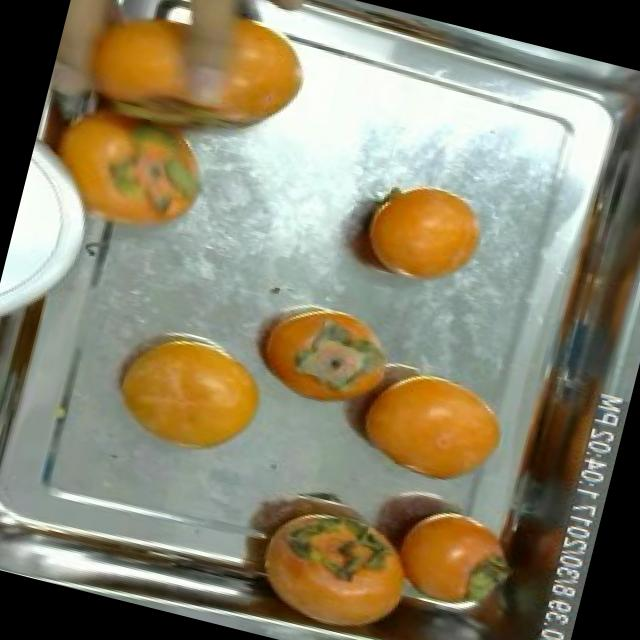Fruit: (16, 70, 233, 260), (337, 350, 528, 509), (243, 489, 434, 640), (100, 318, 280, 470), (346, 164, 500, 300), (232, 287, 398, 410), (372, 488, 506, 622)
